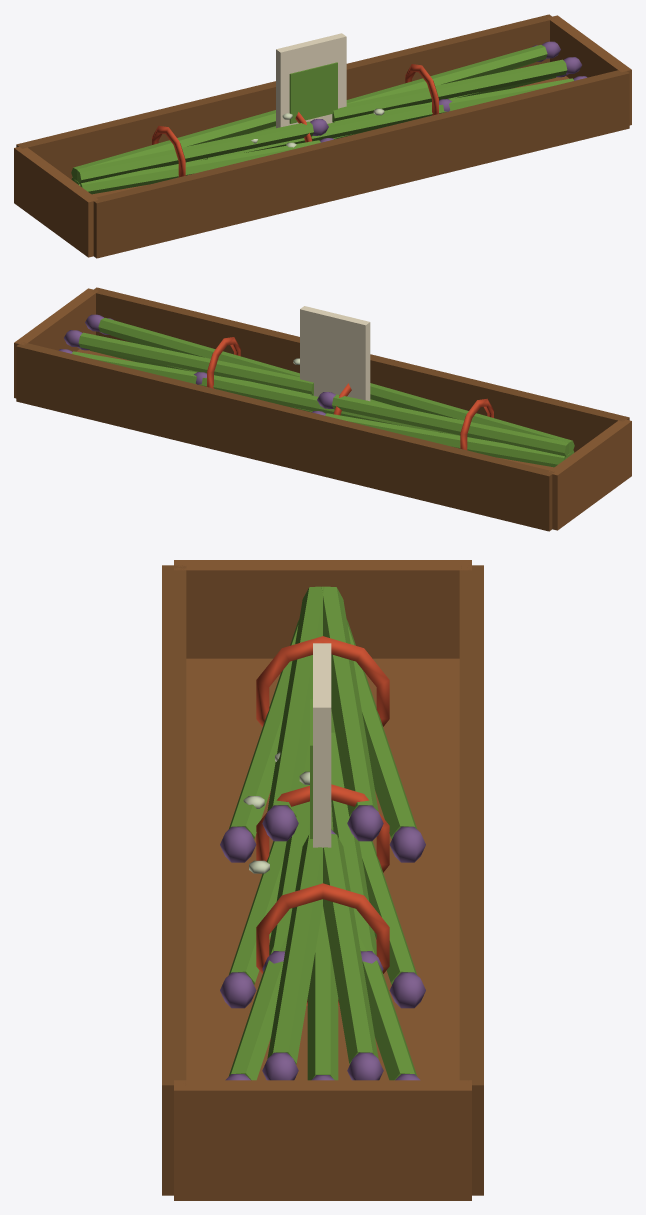
The model's file is Veg_Asparagus.fbx.
3 renders of one model, top to bottom at view 1: azimuth 30°, elevation 25°; view 2: azimuth 150°, elevation 25°; view 3: azimuth 270°, elevation 25°, orthographic. The views are drawn at different scales.
Parts seen in each view (by area): view 1: Veg_Asparagus__Stack, Veg_Asparagus__Seed, Veg_Asparagus; view 2: Veg_Asparagus__Stack, Veg_Asparagus__Seed, Veg_Asparagus; view 3: Veg_Asparagus__Stack, Veg_Asparagus, Veg_Asparagus__Seed.
Boxes of the visible parts, x1,y1,x2,y2 form: Veg_Asparagus__Stack: [14, 14, 631, 258]; Veg_Asparagus__Seed: [276, 33, 346, 128]; Veg_Asparagus: [206, 99, 451, 159]; Veg_Asparagus__Stack: [14, 287, 631, 531]; Veg_Asparagus__Seed: [300, 306, 370, 401]; Veg_Asparagus: [194, 372, 439, 432]; Veg_Asparagus__Stack: [162, 560, 483, 1200]; Veg_Asparagus: [220, 732, 425, 1008]; Veg_Asparagus__Seed: [310, 643, 331, 847].
Bounding box in the file's own units: 0.4121 × 0.09 × 0.1057.
